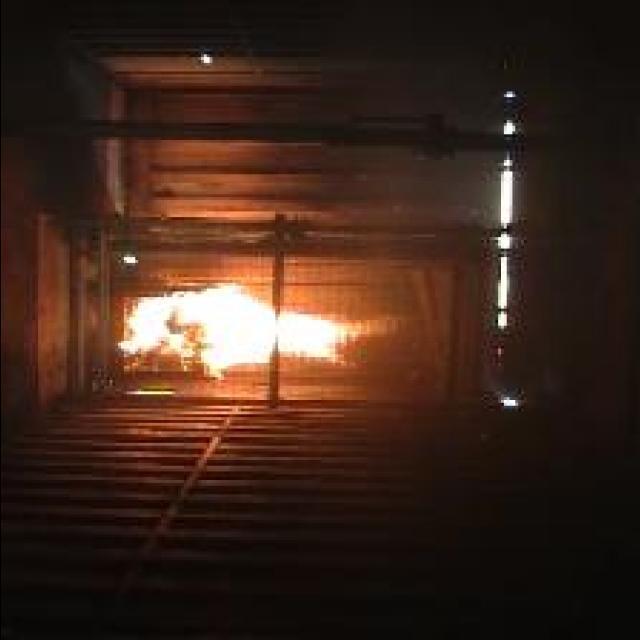Fire: (114, 286, 394, 380)
